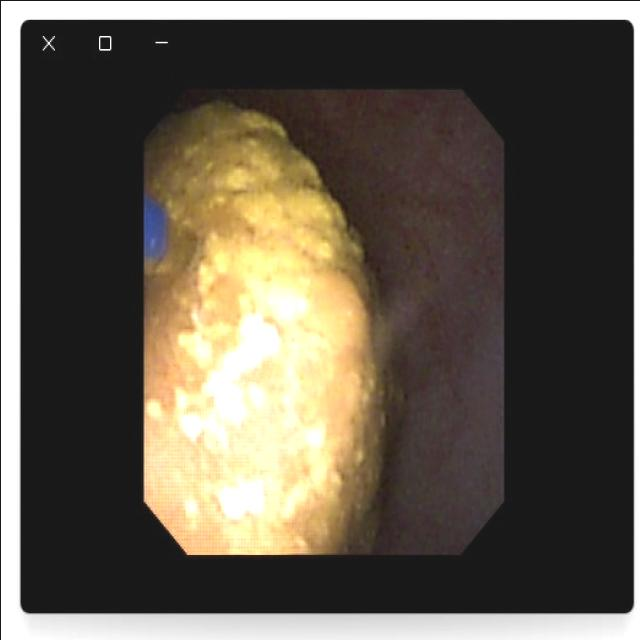stone: (148, 102, 395, 546)
